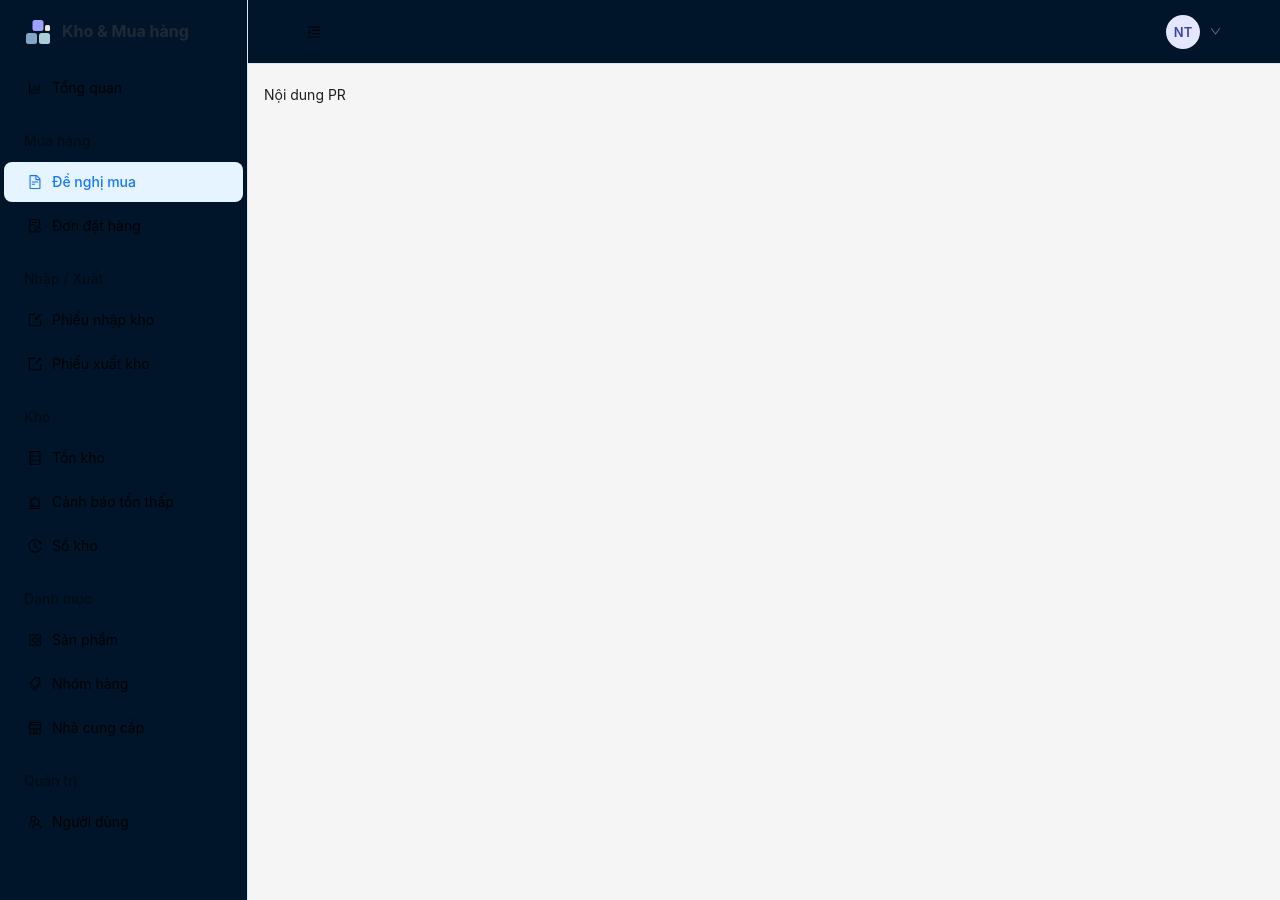
it: Bố cục thanh bên và vùng cuộn › logo điều hướng bằng React, đưa vùng nội dung về đầu và giữ nguyên header
What coordinates should you click on to do the following:
click the link with aria-label "— Tổng quan"
I would click on:
 (106, 32)
Its box is [24, 18, 189, 46].
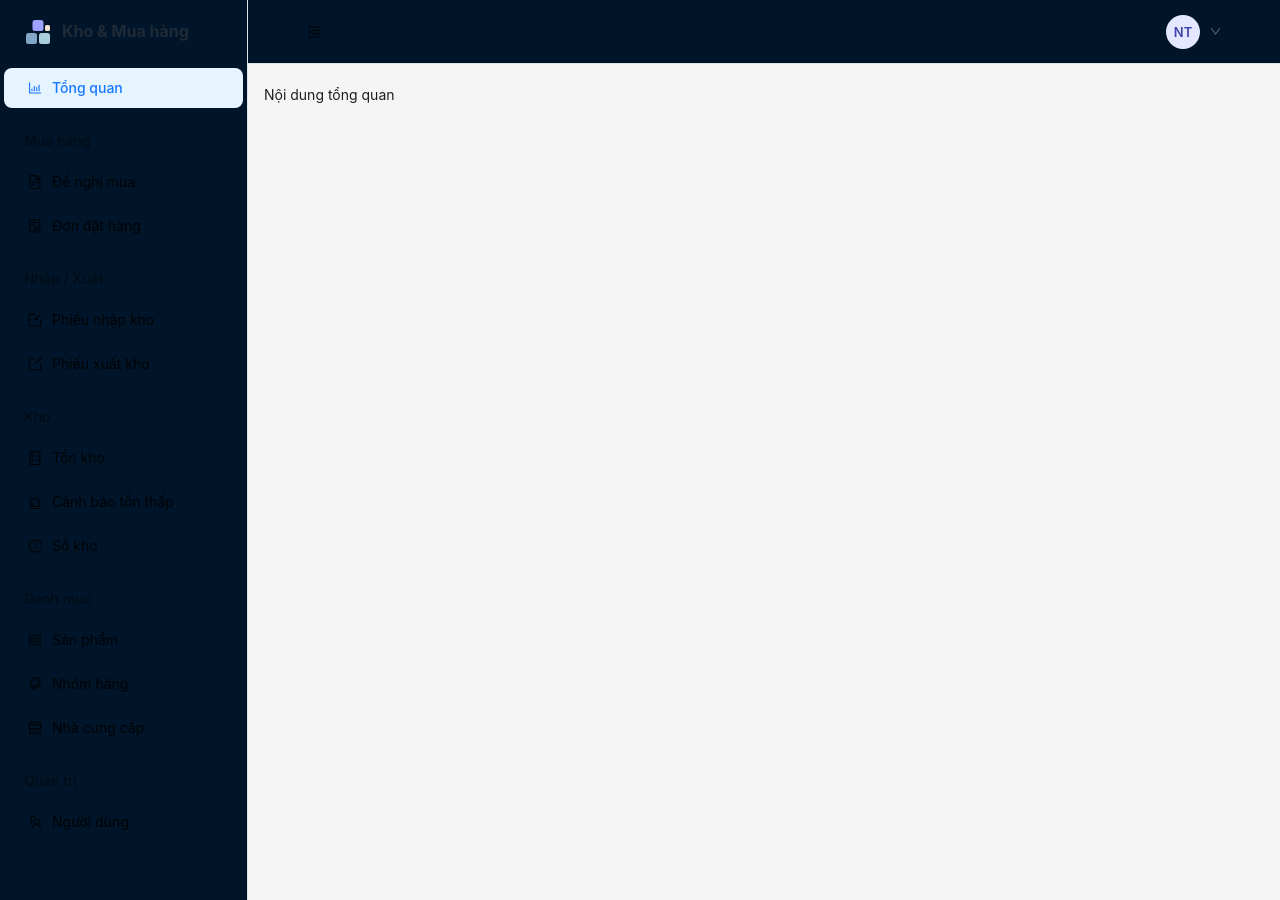
Expected: the text "Nội dung tổng quan" is shown, [264, 86, 394, 103]
